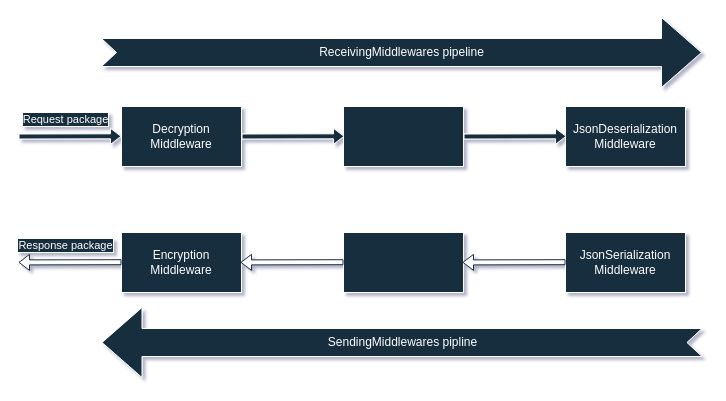
Image size: 726x401. Some labels were removed from this diagram. The centre of each missing label's shape, as x and y in pixels:
Compression Middleware: the point at 403,262
Decompression Middleware: the point at 403,136
